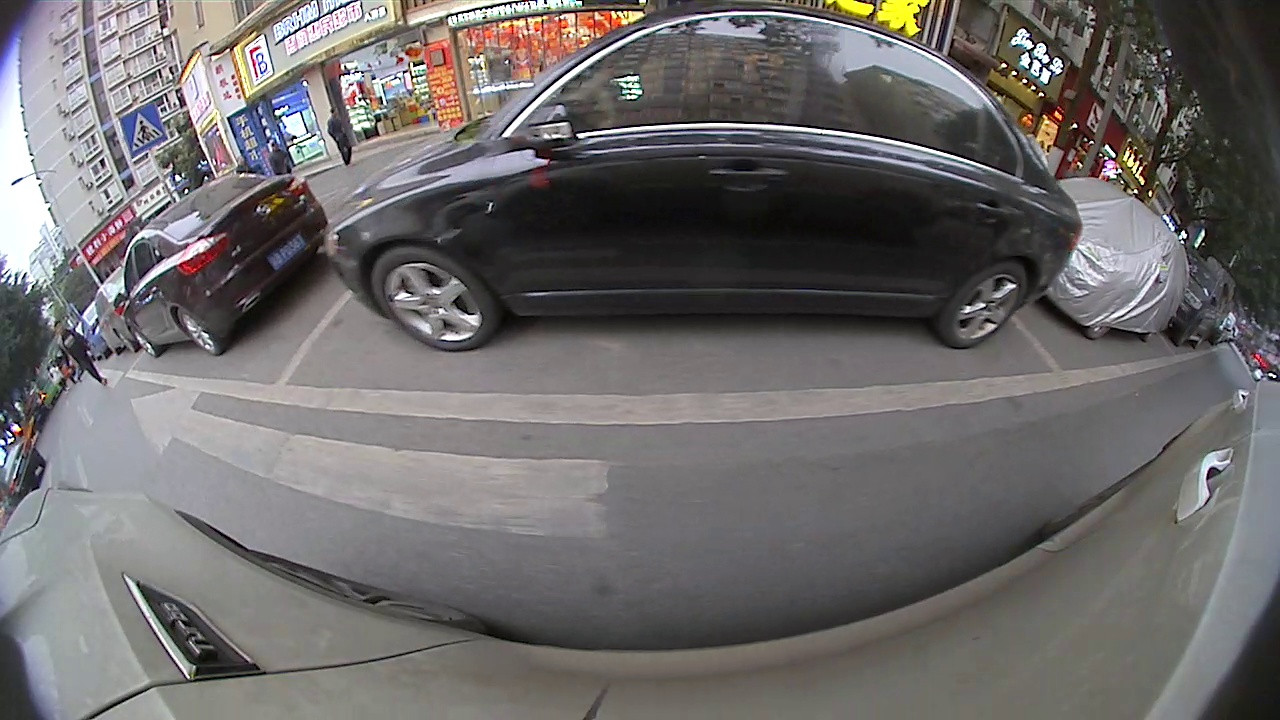car: (658, 73, 1122, 379), (80, 157, 320, 356), (1104, 249, 1171, 369), (45, 250, 102, 345)
front: (134, 294, 189, 353), (1054, 324, 1109, 375)
person: (643, 0, 694, 168), (381, 43, 413, 131)
rear: (839, 280, 972, 380), (93, 310, 125, 349)
